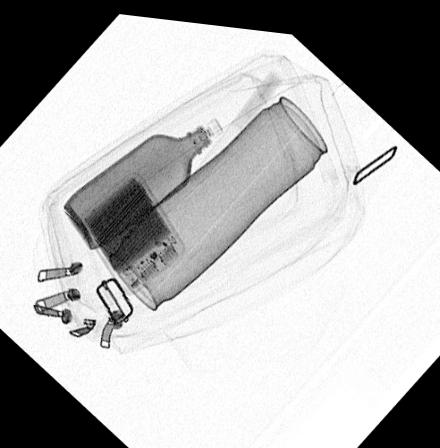Powerbank: (79, 167, 186, 293)
